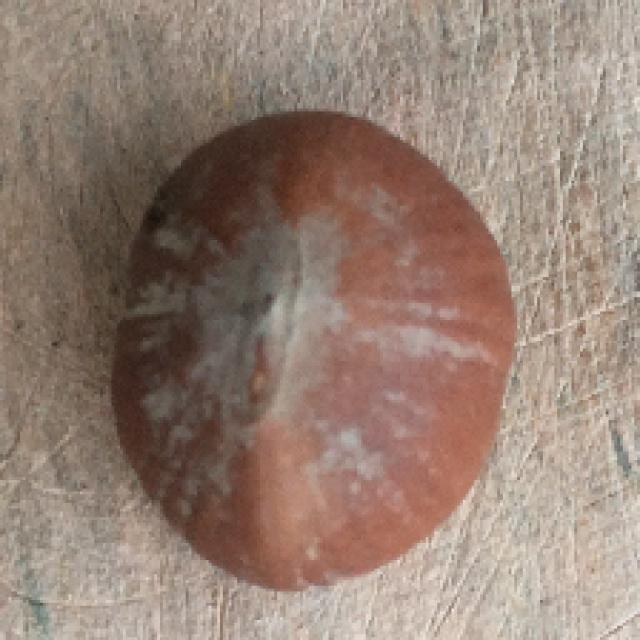qualityHazelnut: (121, 106, 514, 596)
